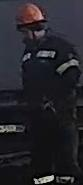helmet: (14, 2, 49, 25)
vest: (20, 36, 78, 124)
